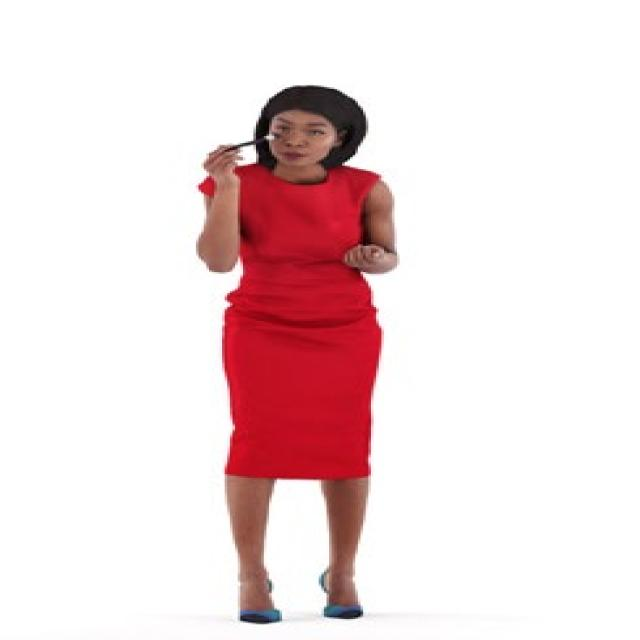standing: (187, 79, 400, 625)
